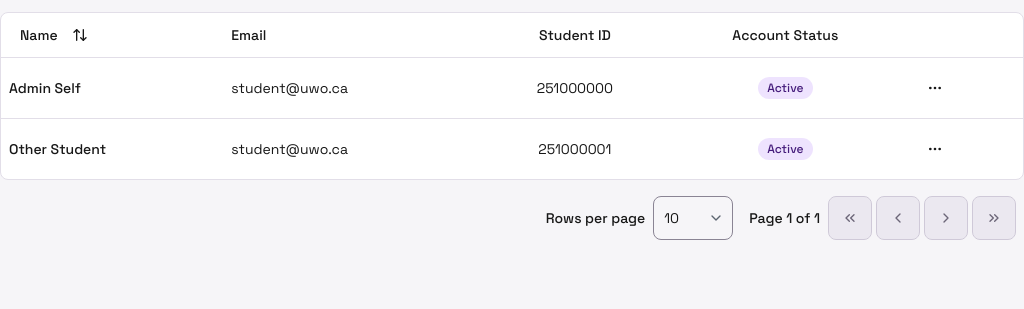
Test: UsersTable account status actions › lets an admin change another user's status
Note: The cards are in the DOM too (hidden by CSS below md), so look inside the table
Click the button named "actions for other student".
click(935, 149)  # box [913,127,957,171]
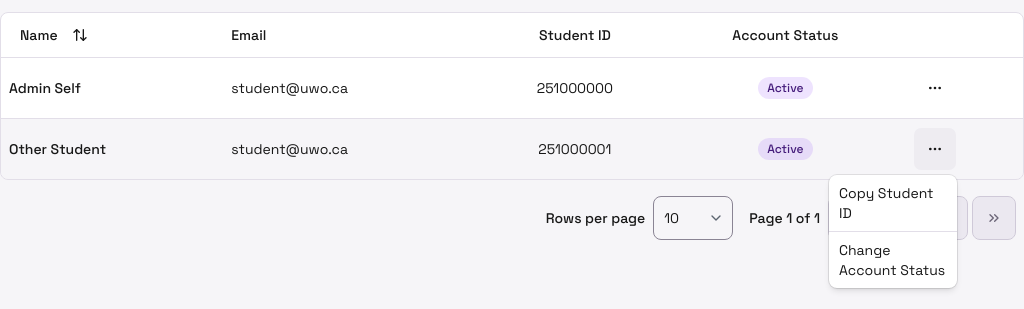
Result: the menu item "Change Account Status" is enabled at [833,236,953,284]
